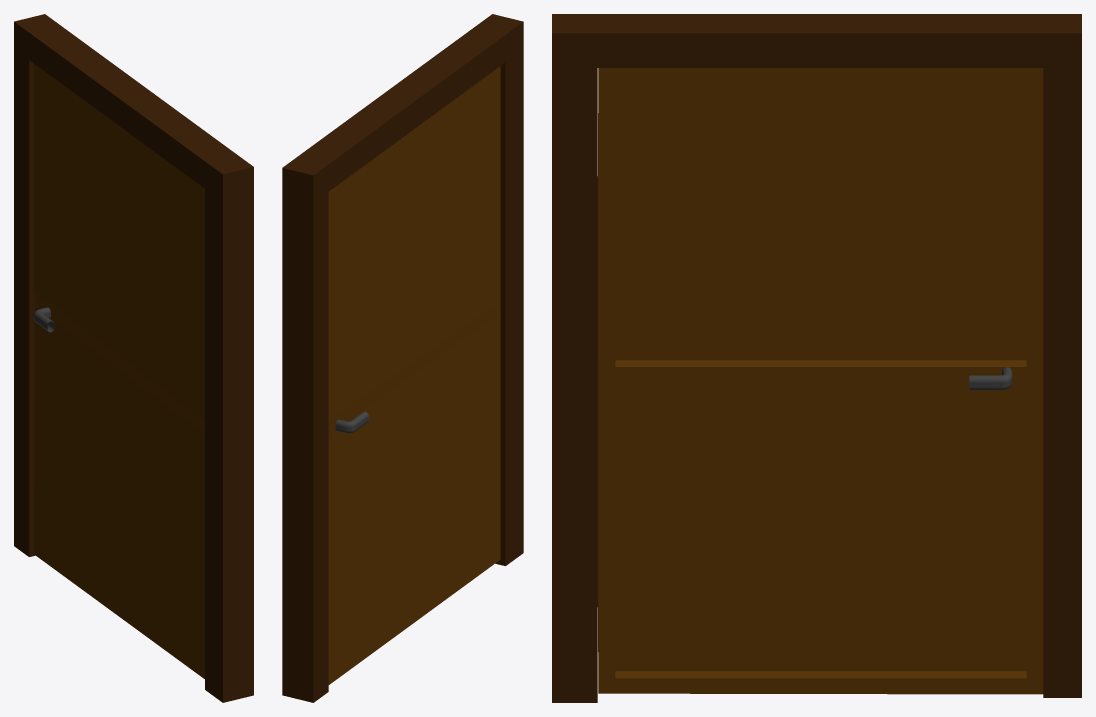
The model's file is Porte.fbx.
3 views of the same model, side by side, from view 1: azimuth 30°, elevation 25°; view 2: azimuth 150°, elevation 25°; view 3: azimuth 270°, elevation 25° (orthographic). The views are drawn at different scales.
Parts seen in each view (by area): view 1: BezierCurve.001, Cube.001; view 2: BezierCurve.001, Cube.001; view 3: BezierCurve.001, Cube.001.
Boxes of the visible parts, left/top/right/bottom form: BezierCurve.001: left=34, top=64, right=204, bottom=678; Cube.001: left=14, top=14, right=253, bottom=702; BezierCurve.001: left=328, top=66, right=500, bottom=684; Cube.001: left=282, top=14, right=523, bottom=702; BezierCurve.001: left=597, top=68, right=1043, bottom=694; Cube.001: left=552, top=14, right=1081, bottom=702.
Bounding box in the file's own units: 355 × 3257 × 2334.
